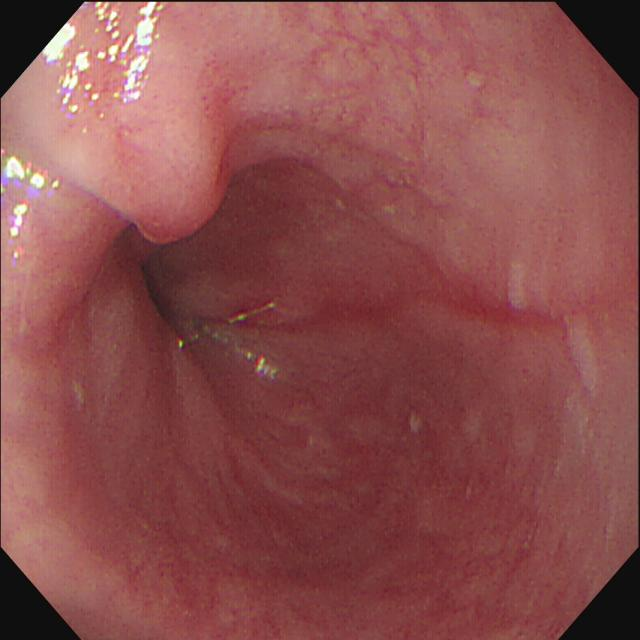A: (113, 127, 233, 253), (197, 50, 259, 127), (43, 291, 94, 368)
J: (566, 318, 604, 393), (205, 325, 256, 362), (510, 261, 528, 313), (73, 382, 89, 412)
U: (43, 2, 166, 121), (2, 148, 61, 237), (259, 358, 278, 380)
